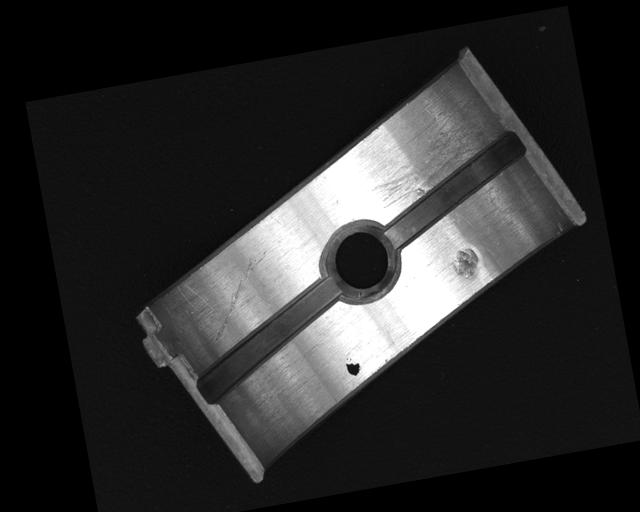blot: (345, 359, 362, 377)
bruise: (449, 245, 481, 281)
gap: (181, 275, 354, 406), (370, 128, 538, 247)
hole: (316, 214, 404, 308)
nick: (198, 248, 282, 344)
scratch: (336, 88, 505, 216)
